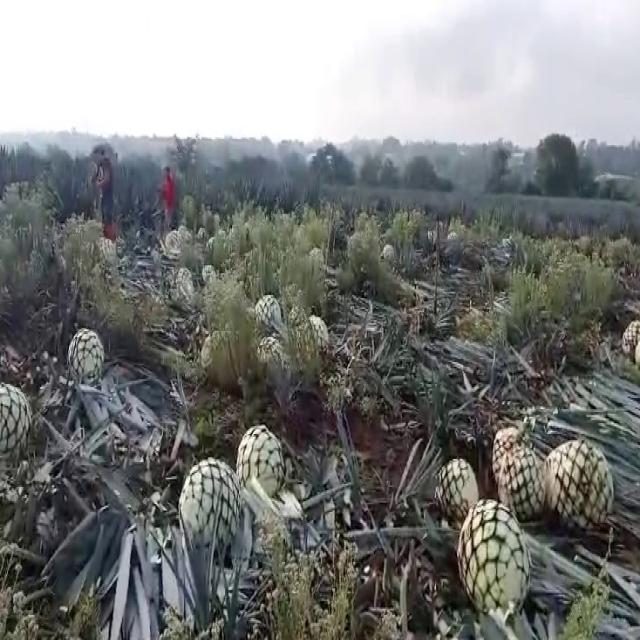agave: (455, 495, 534, 631), (543, 434, 615, 539), (179, 457, 243, 556), (232, 423, 284, 505), (499, 440, 543, 526), (64, 324, 109, 389), (435, 457, 478, 522), (0, 381, 31, 456), (489, 420, 522, 485), (253, 331, 287, 378), (253, 290, 285, 330), (619, 310, 640, 358), (303, 311, 327, 351), (172, 266, 198, 300), (96, 238, 120, 272), (162, 225, 180, 255), (198, 259, 217, 287), (381, 239, 398, 266), (634, 334, 640, 364)
